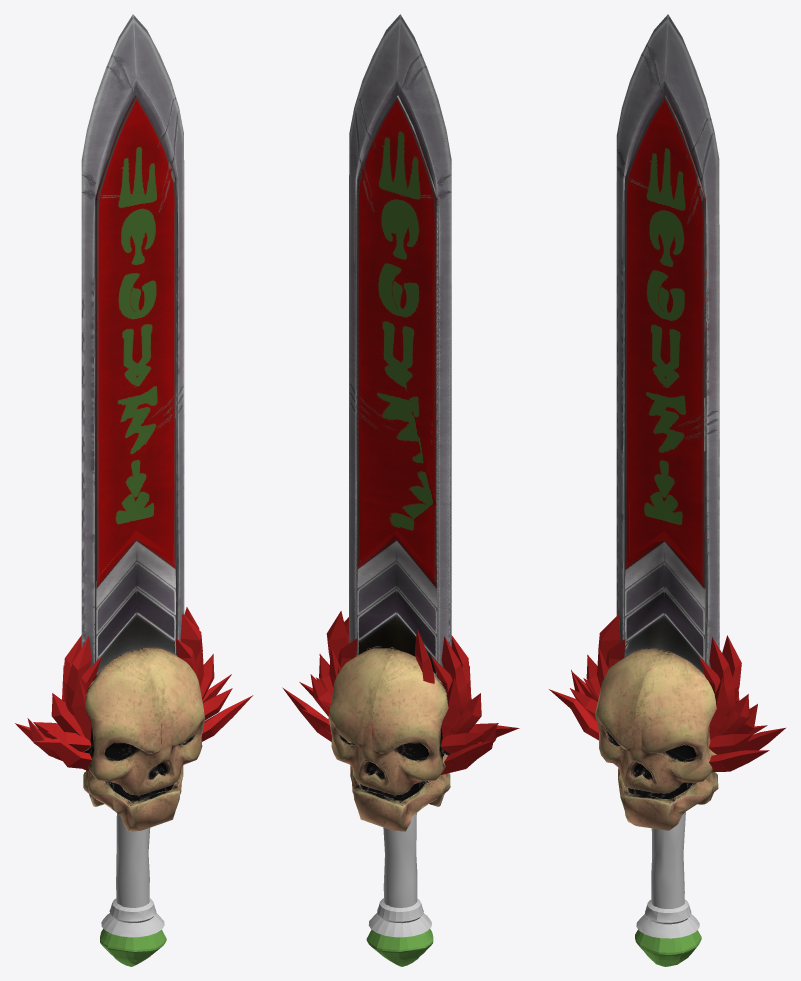
The model's file is Sword.obj.
3 views of the same model, side by side, from view 1: azimuth 30°, elevation 25°; view 2: azimuth 150°, elevation 25°; view 3: azimuth 330°, elevation 25° (orthographic).
Parts seen in each view (by area): view 1: Blade1; view 2: Blade1; view 3: Blade1.
Boxes of the visible parts, <box> form: Blade1: <box>15,14,253,966</box>; Blade1: <box>282,14,519,966</box>; Blade1: <box>549,14,785,966</box>.
Bounding box in the file's own units: 4.4 × 18.05 × 2.27.
4 materials, 3 textured.
